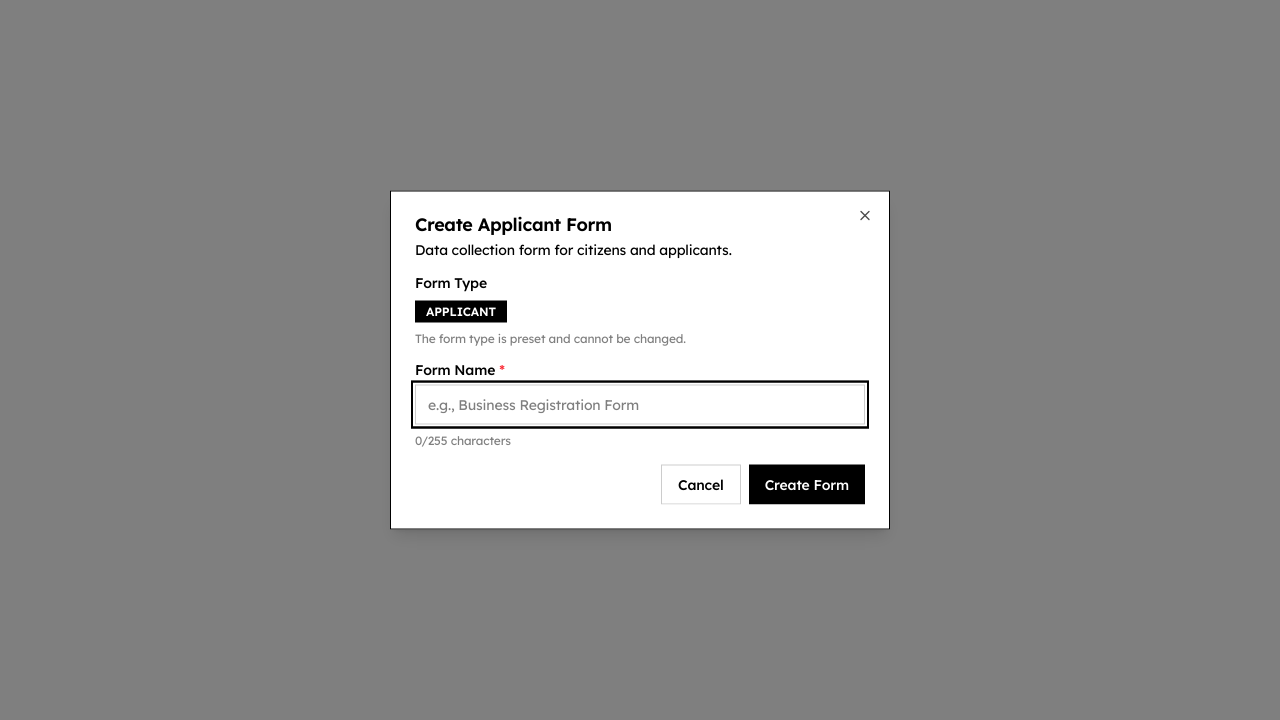
Test: CreateFormDialog › Form Validation › validates required name field on submit
The image size is (1280, 720).
# Submit without filling any fields
Click the button "Create Form". click: (807, 484)
box: x1=749 y1=464 x2=865 y2=504
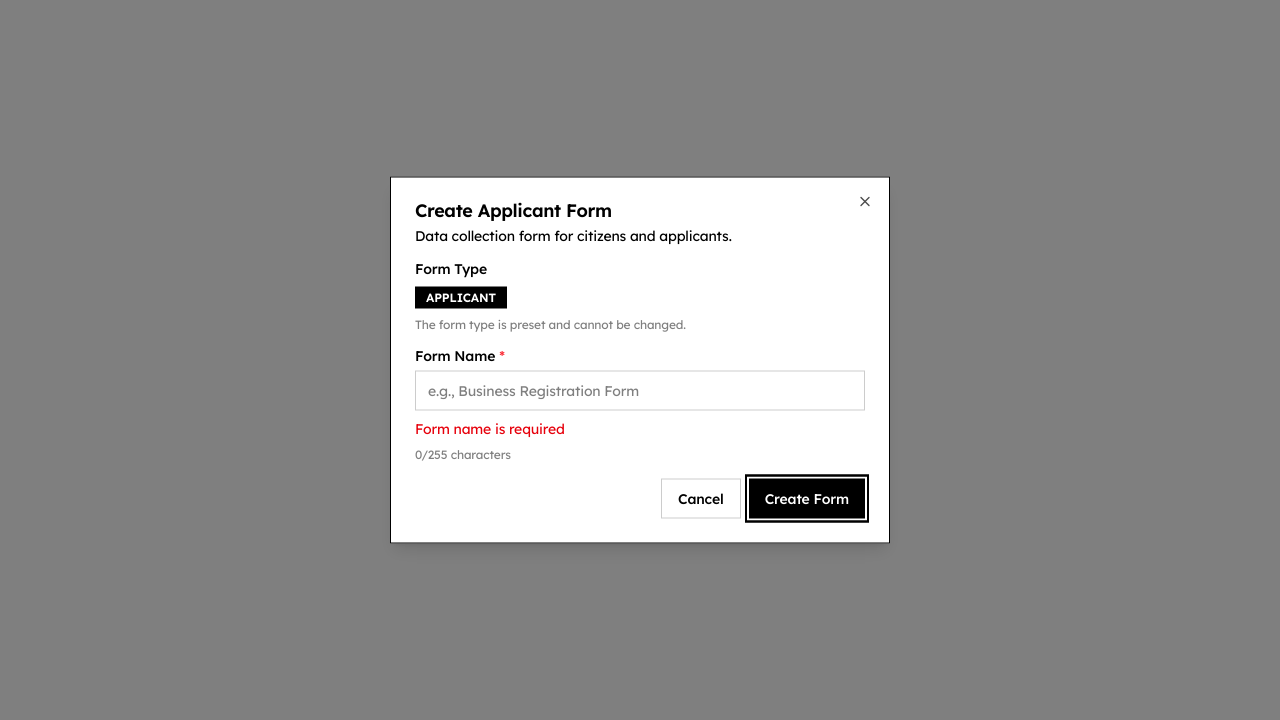
Expected: the text "Form name is required" is shown, x1=415 y1=420 x2=565 y2=438
